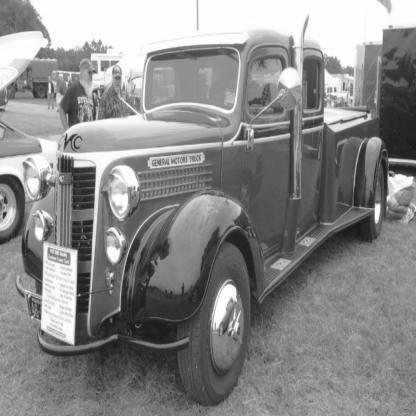truck: (28, 10, 401, 402)
